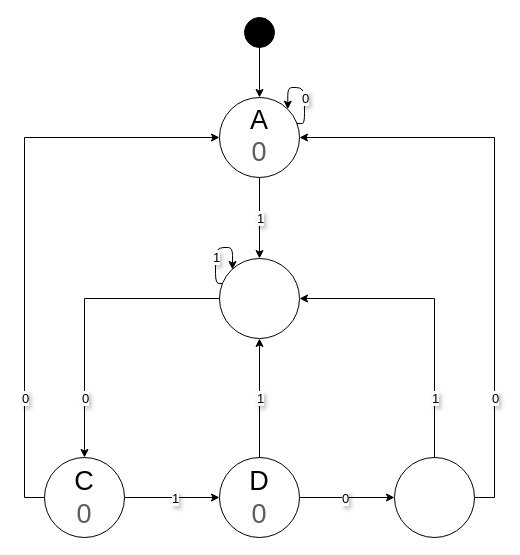
The diagram is 520 pixels wide and 555 high, and some of its shapes have lost their labels. Each missing label, with the box of its shape:
B 0: (218, 258, 300, 338)
E 1: (394, 456, 474, 538)
